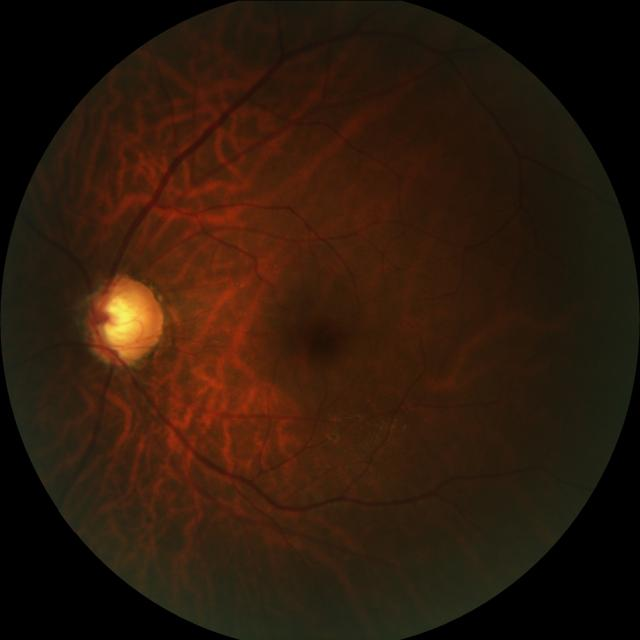OC: (100, 290, 146, 348)
OD: (84, 274, 168, 365)
